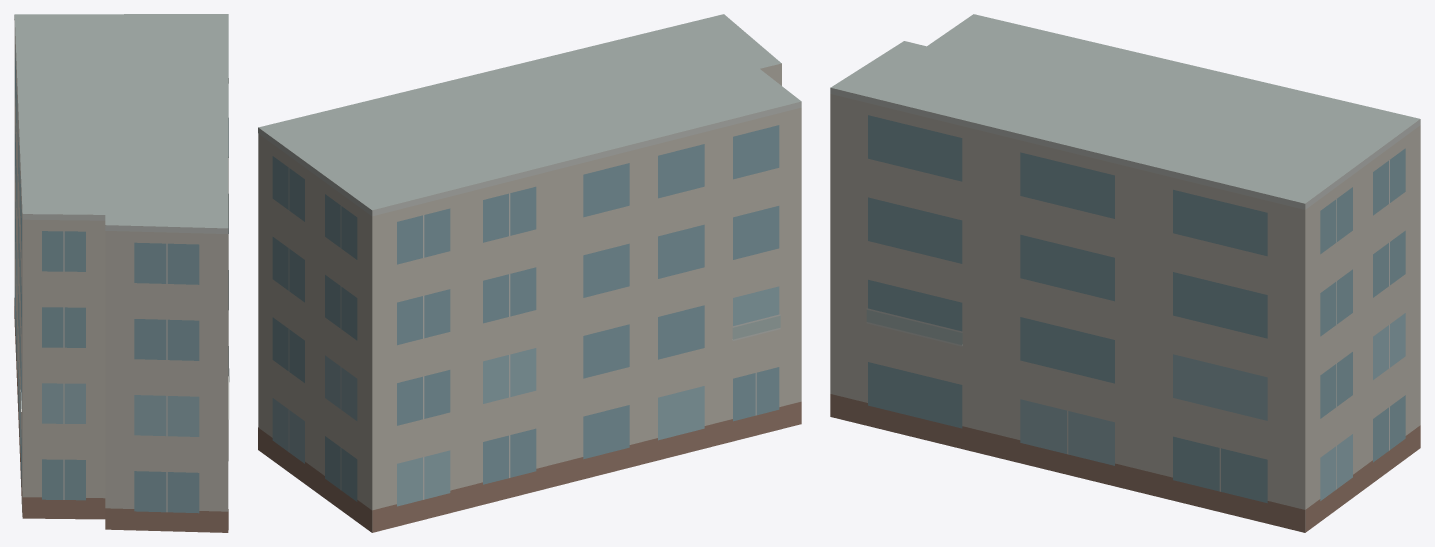
Rendered from survey-upis-32688191.glb.
3 renders of one model, left to right at view 1: azimuth 30°, elevation 25°; view 2: azimuth 150°, elevation 25°; view 3: azimuth 270°, elevation 25°, orthographic. The views are drawn at different scales.
Visible parts, largest first — view 1: survey-upis-32688191.tmp; view 2: survey-upis-32688191.tmp; view 3: survey-upis-32688191.tmp.
Part boxes in pixels (bbox=[...]): survey-upis-32688191.tmp: bbox=[14, 14, 229, 532]; survey-upis-32688191.tmp: bbox=[258, 14, 801, 532]; survey-upis-32688191.tmp: bbox=[830, 14, 1420, 532].
Bounding box in the file's own units: 16.03 × 12.96 × 21.07.
